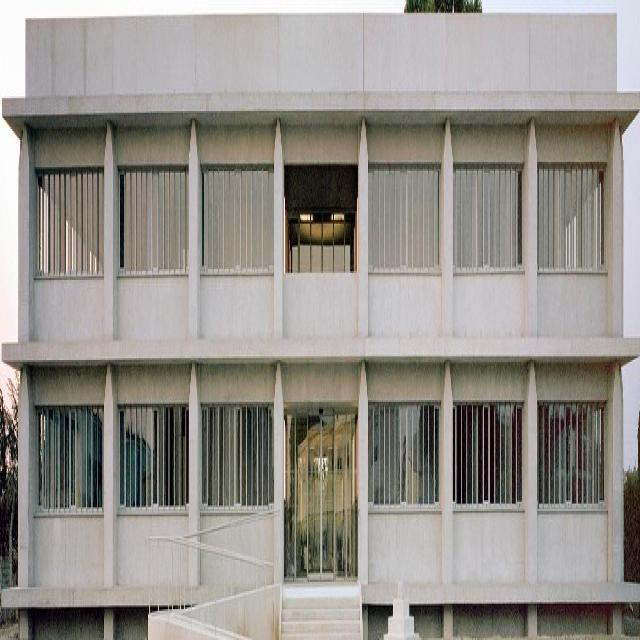door: (306, 411, 335, 577)
wall: (2, 6, 640, 636)
windows: (538, 166, 608, 279), (36, 172, 106, 284), (37, 410, 106, 523), (537, 399, 606, 511), (452, 165, 524, 268), (368, 160, 439, 264), (118, 404, 189, 508), (202, 410, 273, 513), (118, 166, 188, 270), (202, 170, 272, 273), (452, 397, 522, 500), (368, 393, 438, 496), (287, 211, 354, 272), (285, 408, 307, 580), (335, 410, 357, 582)
